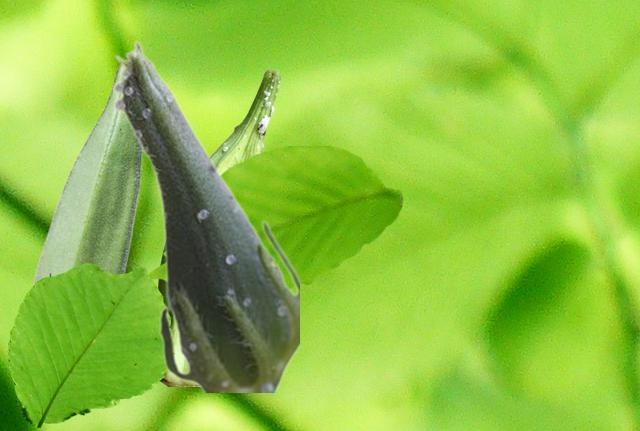okra: (111, 40, 298, 391), (156, 69, 280, 385), (30, 64, 141, 286)
